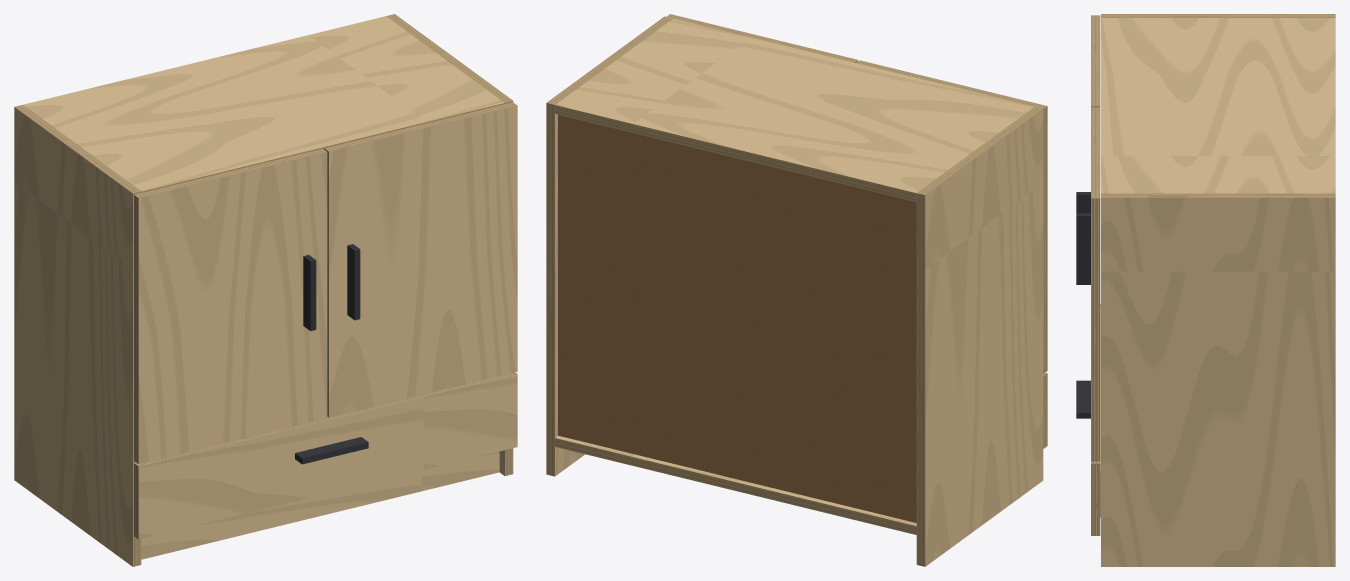
The model's file is SAB-CAB-std.glb.
The picture shows the model from 3 angles, left to right: view 1: azimuth 30°, elevation 25°; view 2: azimuth 150°, elevation 25°; view 3: azimuth 270°, elevation 25°; orthographic projection.
Visible parts, largest first — view 1: door-l:sheet:eyJtIjoicGx5Iiwic2lkZSI6ImZhY2UiLCJzZWVkIjoyLCJ, door-r:sheet:eyJtIjoicGx5Iiwic2lkZSI6ImZhY2UiLCJzZWVkIjoxLCJ, side-l:sheet:eyJtIjoicGx5Iiwic2lkZSI6ImZhY2UiLCJzZWVkIjoxLCJ, top:sheet:eyJtIjoicGx5Iiwic2lkZSI6ImZhY2UiLCJzZWVkIjo2LCJ2ZW, d1-front:sheet:eyJtIjoicGx5Iiwic2lkZSI6ImZhY2UiLCJzZWVkIjo2L, plinth:sheet:eyJtIjoicGx5Iiwic2lkZSI6ImZhY2UiLCJzZWVkIjozLCJ, pull, door-l:sheet:eyJtIjoicGx5Iiwic2lkZSI6ImVkZ2UtbG9uZyIsInNlZWQ, d1-front:sheet:eyJtIjoicGx5Iiwic2lkZSI6ImVkZ2UtbG9uZyIsInNlZ, side-l:sheet:eyJtIjoicGx5Iiwic2lkZSI6ImVkZ2UtZW5kIiwic2VlZCI, side-r:sheet:eyJtIjoicGx5Iiwic2lkZSI6ImVkZ2UtZW5kIiwic2VlZCI, door-l:sheet:eyJtIjoicGx5Iiwic2lkZSI6ImVkZ2UtZW5kIiwic2VlZCI (+2 smaller); view 2: back:sheet:eyJtIjoibWRmIiwic2lkZSI6ImZhY2UiLCJzZWVkIjoyLCJ0a, side-l:sheet:eyJtIjoicGx5Iiwic2lkZSI6ImZhY2UiLCJzZWVkIjoxLCJ, top:sheet:eyJtIjoicGx5Iiwic2lkZSI6ImZhY2UiLCJzZWVkIjo2LCJ2ZW, side-l:sheet:eyJtIjoicGx5Iiwic2lkZSI6ImVkZ2UtbG9uZyIsInNlZWQ, top:sheet:eyJtIjoicGx5Iiwic2lkZSI6ImVkZ2UtbG9uZyIsInNlZWQiOj, bottom:sheet:eyJtIjoicGx5Iiwic2lkZSI6ImVkZ2UtbG9uZyIsInNlZWQ, side-r:sheet:eyJtIjoicGx5Iiwic2lkZSI6ImVkZ2UtbG9uZyIsInNlZWQ, side-r:sheet:eyJtIjoicGx5Iiwic2lkZSI6ImZhY2UiLCJzZWVkIjozLCJ, bottom:sheet:eyJtIjoicGx5Iiwic2lkZSI6ImZhY2UiLCJzZWVkIjowLCJ, door-l:sheet:eyJtIjoicGx5Iiwic2lkZSI6ImVkZ2UtbG9uZyIsInNlZWQ, side-l:sheet:eyJtIjoicGx5Iiwic2lkZSI6ImVkZ2UtZW5kIiwic2VlZCI, side-r:sheet:eyJtIjoicGx5Iiwic2lkZSI6ImVkZ2UtZW5kIiwic2VlZCI (+2 smaller); view 3: side-r:sheet:eyJtIjoicGx5Iiwic2lkZSI6ImZhY2UiLCJzZWVkIjozLCJ, top:sheet:eyJtIjoicGx5Iiwic2lkZSI6ImZhY2UiLCJzZWVkIjo2LCJ2ZW, door-r:sheet:eyJtIjoicGx5Iiwic2lkZSI6ImVkZ2UtbG9uZyIsInNlZWQ, pull, side-r:sheet:eyJtIjoicGx5Iiwic2lkZSI6ImVkZ2UtZW5kIiwic2VlZCI, side-l:sheet:eyJtIjoicGx5Iiwic2lkZSI6ImVkZ2UtZW5kIiwic2VlZCI, door-l:sheet:eyJtIjoicGx5Iiwic2lkZSI6ImVkZ2UtZW5kIiwic2VlZCI, door-r:sheet:eyJtIjoicGx5Iiwic2lkZSI6ImVkZ2UtZW5kIiwic2VlZCI, d1-front:sheet:eyJtIjoicGx5Iiwic2lkZSI6ImVkZ2UtZW5kIiwic2VlZ.
Boxes of the visible parts, x1,y1,x2,y2 form: door-l:sheet:eyJtIjoicGx5Iiwic2lkZSI6ImZhY2UiLCJzZWVkIjoyLCJ: [138, 152, 327, 463]; door-r:sheet:eyJtIjoicGx5Iiwic2lkZSI6ImZhY2UiLCJzZWVkIjoxLCJ: [329, 105, 517, 417]; side-l:sheet:eyJtIjoicGx5Iiwic2lkZSI6ImZhY2UiLCJzZWVkIjoxLCJ: [14, 107, 132, 566]; top:sheet:eyJtIjoicGx5Iiwic2lkZSI6ImZhY2UiLCJzZWVkIjo2LCJ2ZW: [23, 16, 504, 191]; d1-front:sheet:eyJtIjoicGx5Iiwic2lkZSI6ImZhY2UiLCJzZWVkIjo2L: [138, 374, 517, 539]; plinth:sheet:eyJtIjoicGx5Iiwic2lkZSI6ImZhY2UiLCJzZWVkIjozLCJ: [141, 451, 499, 559]; pull: [295, 244, 368, 464]; door-l:sheet:eyJtIjoicGx5Iiwic2lkZSI6ImVkZ2UtbG9uZyIsInNlZWQ: [134, 195, 138, 463]; d1-front:sheet:eyJtIjoicGx5Iiwic2lkZSI6ImVkZ2UtbG9uZyIsInNlZ: [134, 372, 517, 466]; side-l:sheet:eyJtIjoicGx5Iiwic2lkZSI6ImVkZ2UtZW5kIiwic2VlZCI: [14, 105, 140, 193]; side-r:sheet:eyJtIjoicGx5Iiwic2lkZSI6ImVkZ2UtZW5kIiwic2VlZCI: [386, 14, 512, 102]; door-l:sheet:eyJtIjoicGx5Iiwic2lkZSI6ImVkZ2UtZW5kIiwic2VlZCI: [134, 148, 326, 197]; back:sheet:eyJtIjoibWRmIiwic2lkZSI6ImZhY2UiLCJzZWVkIjoyLCJ0a: [558, 114, 916, 522]; side-l:sheet:eyJtIjoicGx5Iiwic2lkZSI6ImZhY2UiLCJzZWVkIjoxLCJ: [925, 109, 1043, 566]; top:sheet:eyJtIjoicGx5Iiwic2lkZSI6ImZhY2UiLCJzZWVkIjo2LCJ2ZW: [555, 18, 1034, 193]; side-l:sheet:eyJtIjoicGx5Iiwic2lkZSI6ImVkZ2UtbG9uZyIsInNlZWQ: [916, 193, 925, 566]; top:sheet:eyJtIjoicGx5Iiwic2lkZSI6ImVkZ2UtbG9uZyIsInNlZWQiOj: [555, 105, 916, 201]; bottom:sheet:eyJtIjoicGx5Iiwic2lkZSI6ImVkZ2UtbG9uZyIsInNlZWQ: [555, 438, 916, 534]; side-r:sheet:eyJtIjoicGx5Iiwic2lkZSI6ImVkZ2UtbG9uZyIsInNlZWQ: [546, 103, 554, 476]; side-r:sheet:eyJtIjoicGx5Iiwic2lkZSI6ImZhY2UiLCJzZWVkIjozLCJ: [555, 114, 584, 476]; bottom:sheet:eyJtIjoicGx5Iiwic2lkZSI6ImZhY2UiLCJzZWVkIjowLCJ: [555, 435, 916, 525]; door-l:sheet:eyJtIjoicGx5Iiwic2lkZSI6ImVkZ2UtbG9uZyIsInNlZWQ: [1043, 106, 1047, 373]; side-l:sheet:eyJtIjoicGx5Iiwic2lkZSI6ImVkZ2UtZW5kIiwic2VlZCI: [917, 107, 1042, 194]; side-r:sheet:eyJtIjoicGx5Iiwic2lkZSI6ImVkZ2UtZW5kIiwic2VlZCI: [547, 16, 672, 104]; side-r:sheet:eyJtIjoicGx5Iiwic2lkZSI6ImZhY2UiLCJzZWVkIjozLCJ: [1101, 197, 1335, 566]; top:sheet:eyJtIjoicGx5Iiwic2lkZSI6ImZhY2UiLCJzZWVkIjo2LCJ2ZW: [1101, 18, 1335, 193]; door-r:sheet:eyJtIjoicGx5Iiwic2lkZSI6ImVkZ2UtbG9uZyIsInNlZWQ: [1091, 198, 1100, 461]; pull: [1076, 192, 1090, 418]; side-r:sheet:eyJtIjoicGx5Iiwic2lkZSI6ImVkZ2UtZW5kIiwic2VlZCI: [1101, 193, 1335, 197]; side-l:sheet:eyJtIjoicGx5Iiwic2lkZSI6ImVkZ2UtZW5kIiwic2VlZCI: [1101, 14, 1335, 17]; door-l:sheet:eyJtIjoicGx5Iiwic2lkZSI6ImVkZ2UtZW5kIiwic2VlZCI: [1091, 15, 1100, 106]; door-r:sheet:eyJtIjoicGx5Iiwic2lkZSI6ImVkZ2UtZW5kIiwic2VlZCI: [1091, 107, 1100, 198]; d1-front:sheet:eyJtIjoicGx5Iiwic2lkZSI6ImVkZ2UtZW5kIiwic2VlZ: [1091, 463, 1100, 535].
Size of the model in its own units: 0.8 by 0.75 by 0.4769.
55 materials, 54 textured.
